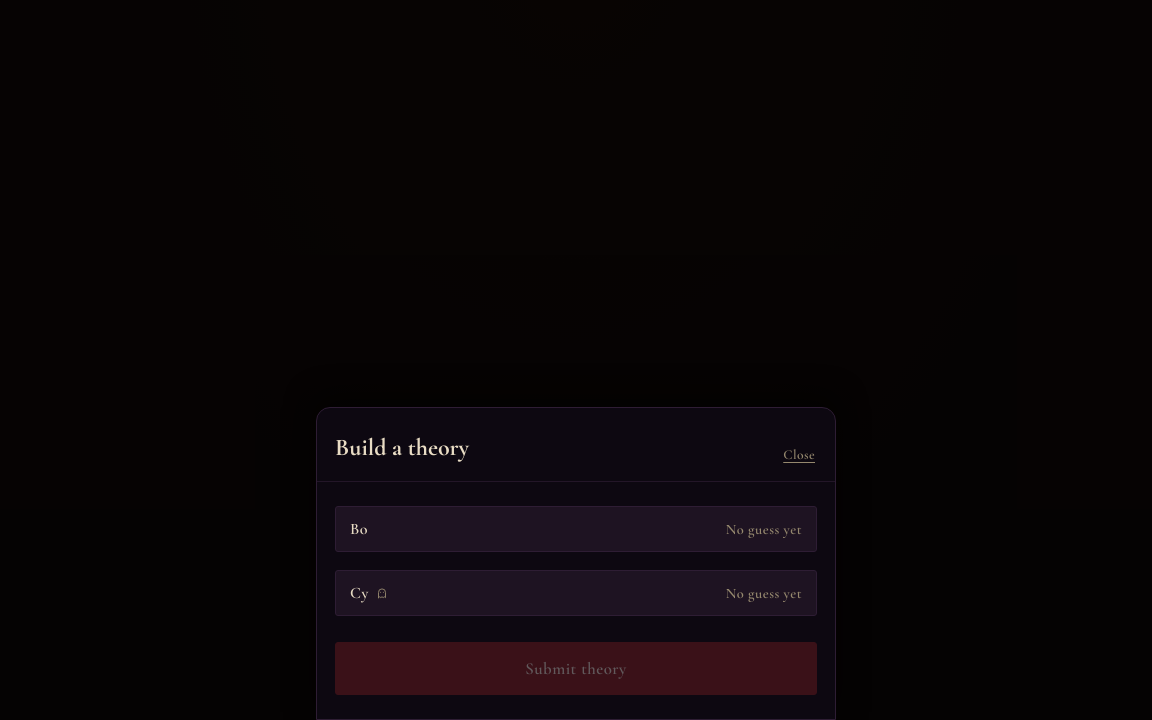
Test: TheoryBuilderOverlay › lists every other player with "No guess yet", marks a dead one, and opens the character picker on tap
The width and height of the screenshot is (1152, 720).
Expected: the text "No guess yet" is shown 2 times, [726,520,802,538]; [726,584,802,602]
Click the text "Bo" at (359, 529), box [350,519,368,539]
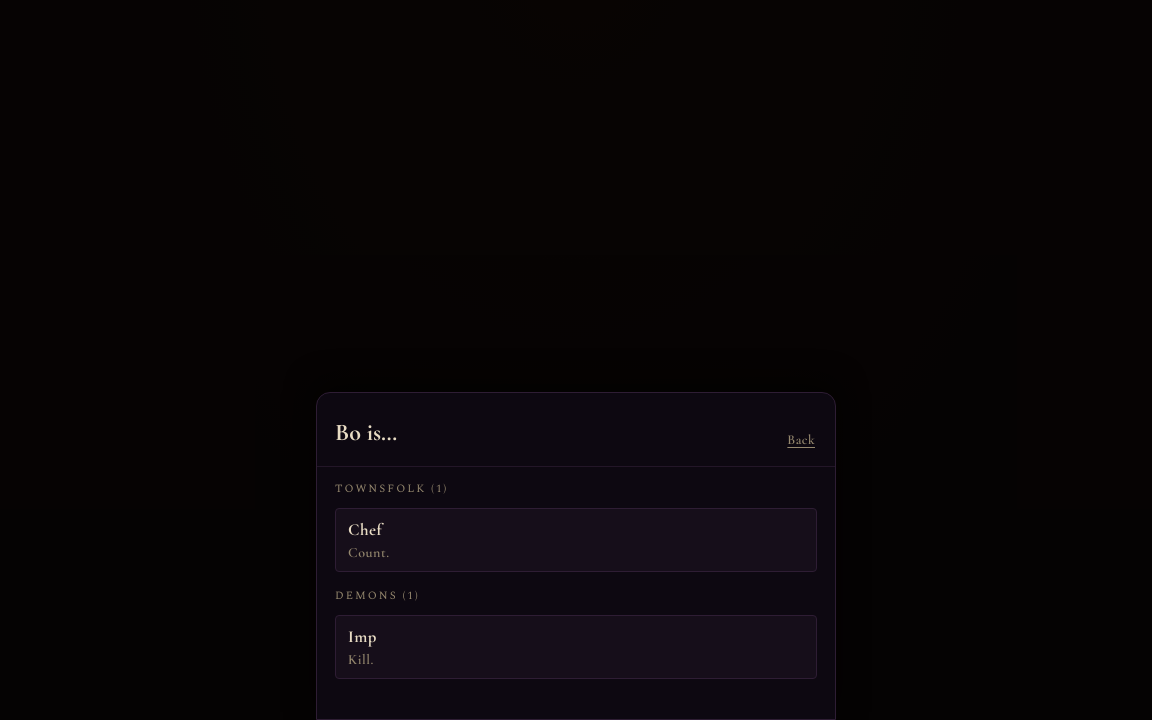
Now the heading "Bo is…" is shown, box [335,415,397,451]
Now the text "Townsfolk (1)" is shown, box [335,480,448,497]
Now the text "Demons (1)" is shown, box [335,587,420,604]
